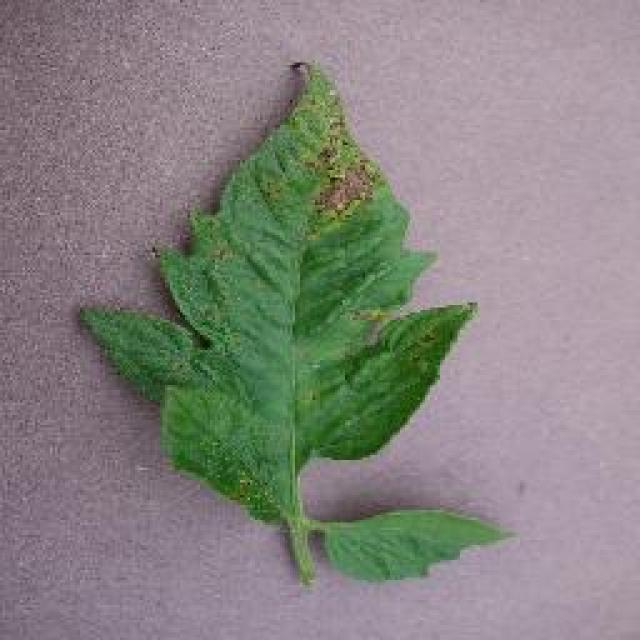Tomato target spot leaf: (74, 56, 508, 586)
